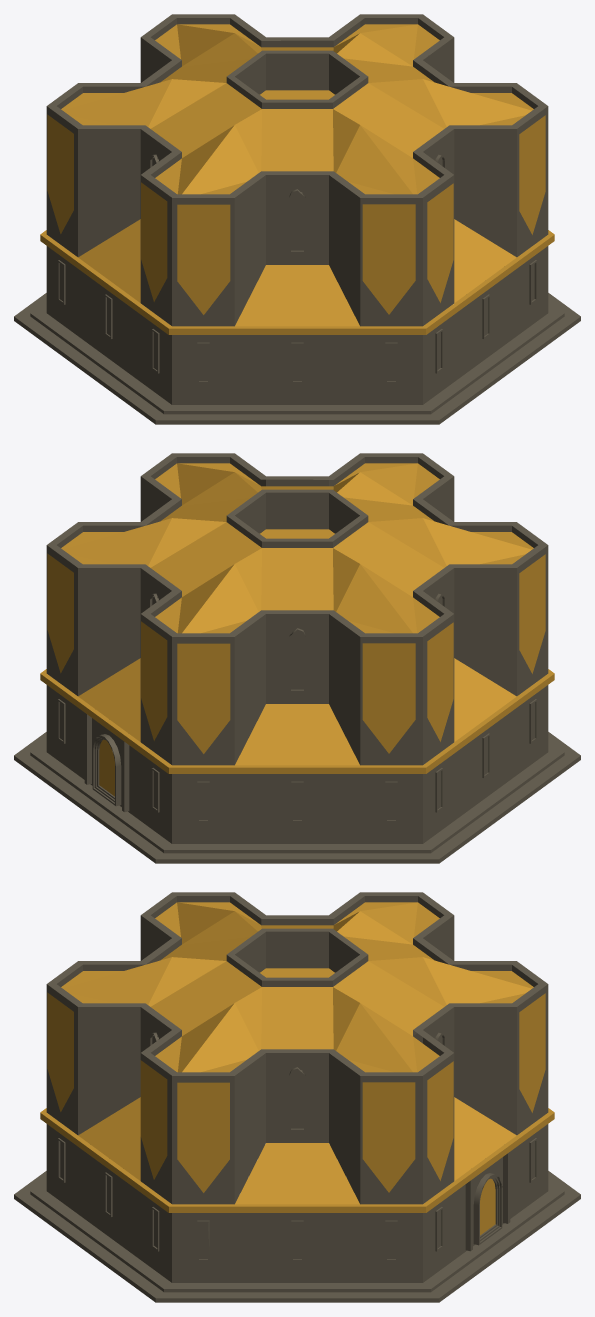
Rendered from bank_lite.glb.
3 renders of one model, top to bottom at view 1: azimuth 30°, elevation 25°; view 2: azimuth 150°, elevation 25°; view 3: azimuth 270°, elevation 25°, orthographic.
Visible parts, largest first — view 1: Bank; view 2: Bank; view 3: Bank.
Part boxes in pixels (x1,y1,x2,y2): Bank: [14, 14, 580, 424]; Bank: [14, 453, 580, 863]; Bank: [14, 892, 580, 1302].
Bounding box in the file's own units: 1.37 × 0.7506 × 1.58.
